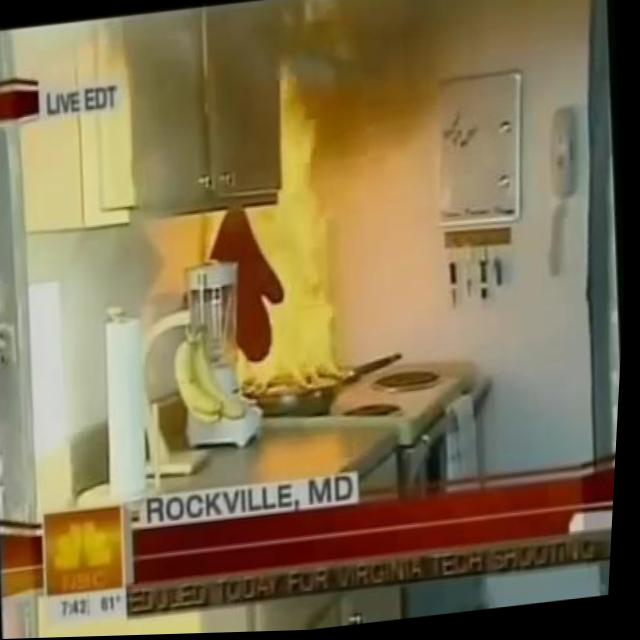fire: (211, 111, 362, 404)
